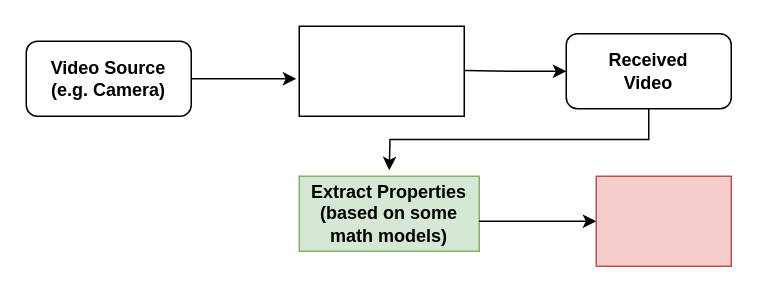
This 758x293 diagram has some shape labels left out. Here are the shapes that lost their labels. From the top down, the centre of each, then its label:
the point at 381,70: Streaming
the point at 663,220: Quality Score
